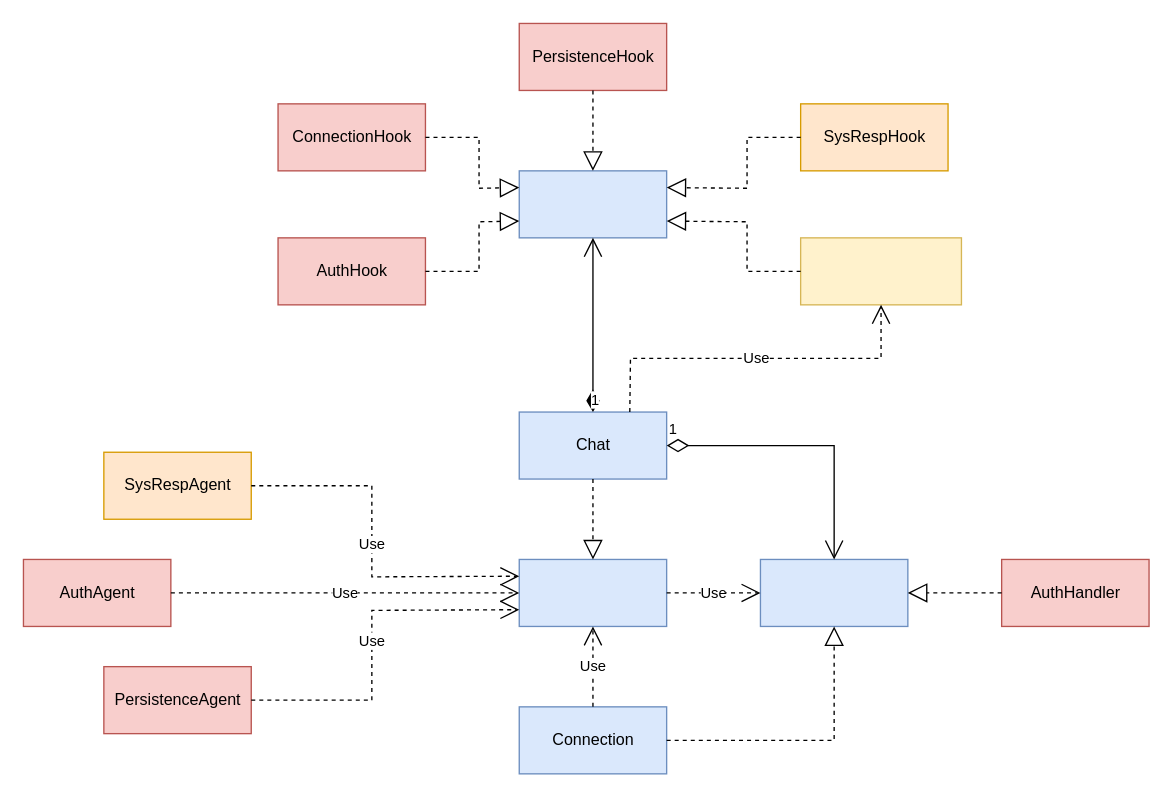
Some shapes in this 1173 by 797 pixel diagram are drawn without their labels. Each missing label, with the centre of its shape:
"ChatHookComposite" belongs at point 880,271.
"«interface» IChat" belongs at point 592,592.
"«interface» IChatHandler" belongs at point 833,592.
"«interface» IChatHook" belongs at point 592,204.
